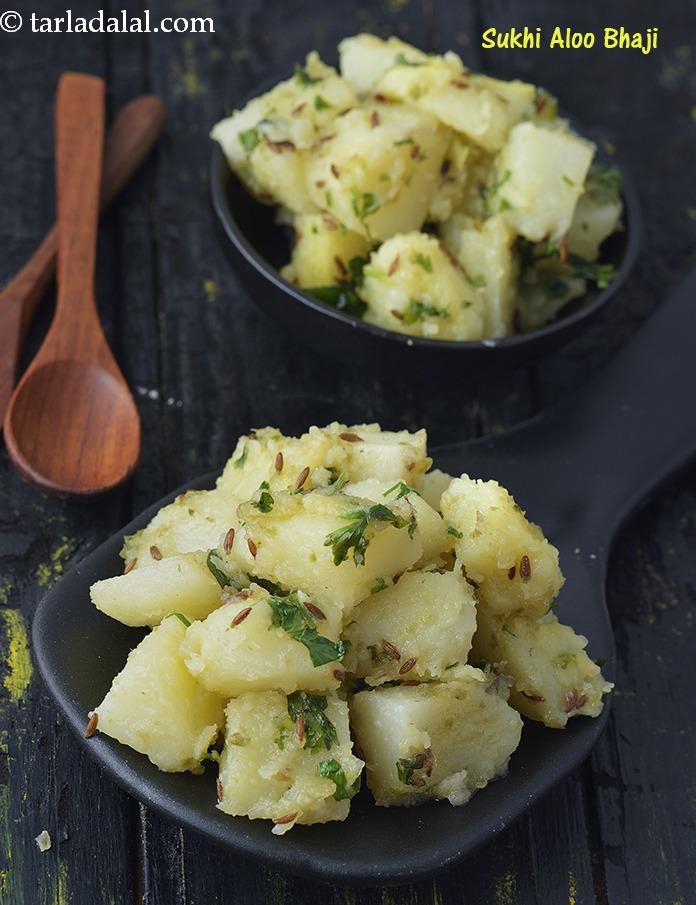aloo sabji: (106, 458, 580, 824), (276, 5, 584, 326)
